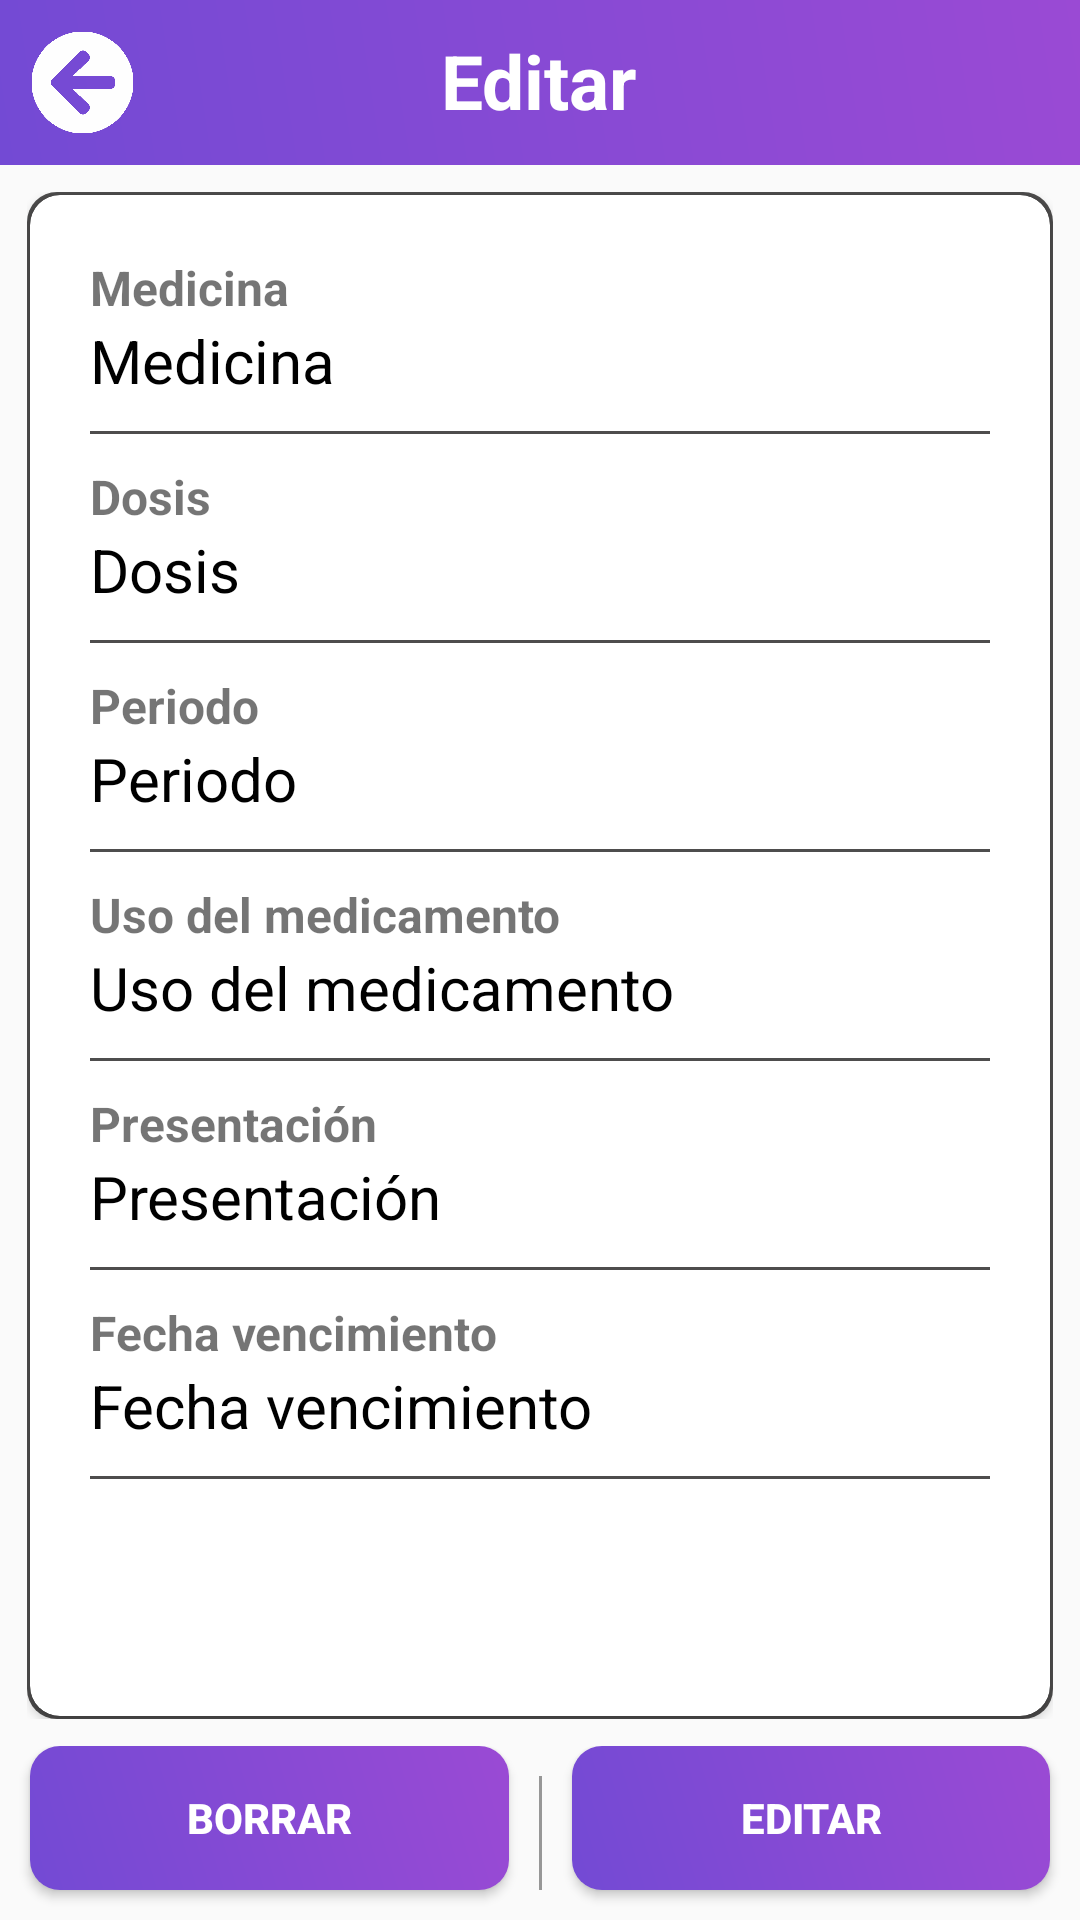

Screen size 1080 x 1920. Icon name, then its box in pixels as (x1, y1, x2, y2):
left arrow: (32, 32, 133, 133)
